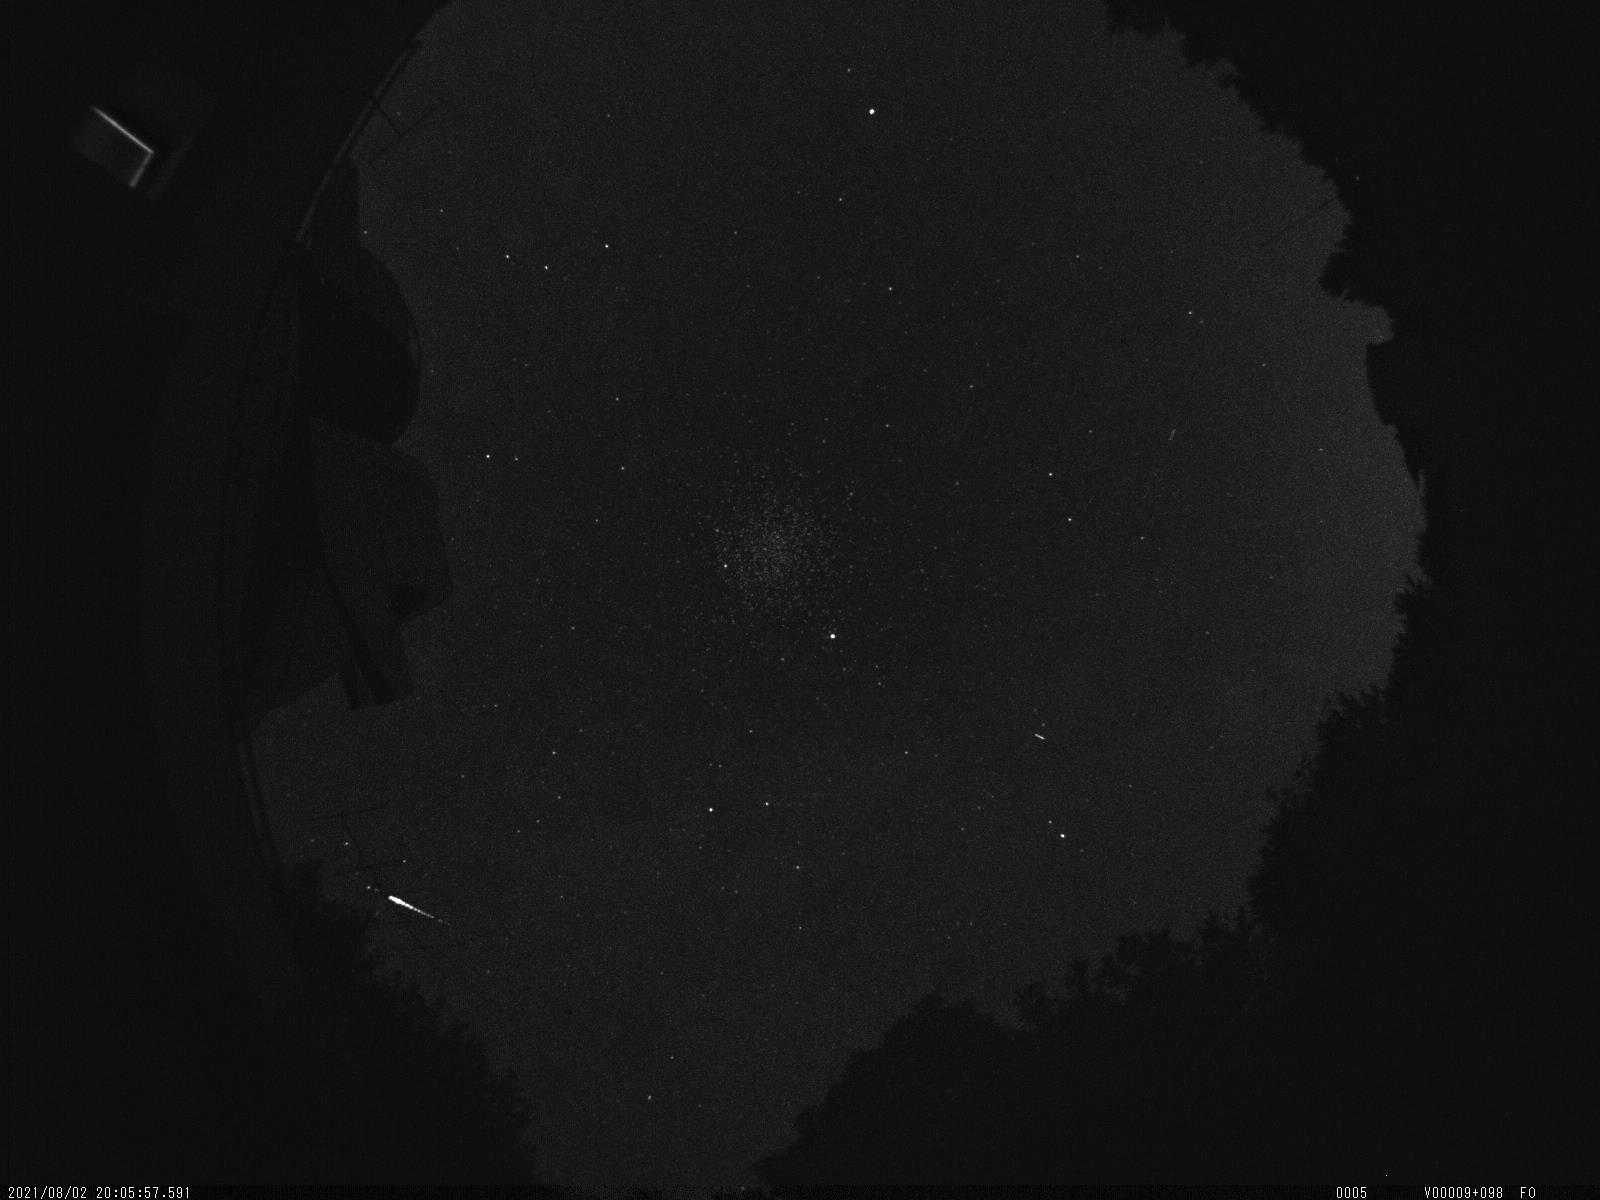Meteor: (379, 882, 461, 933)
